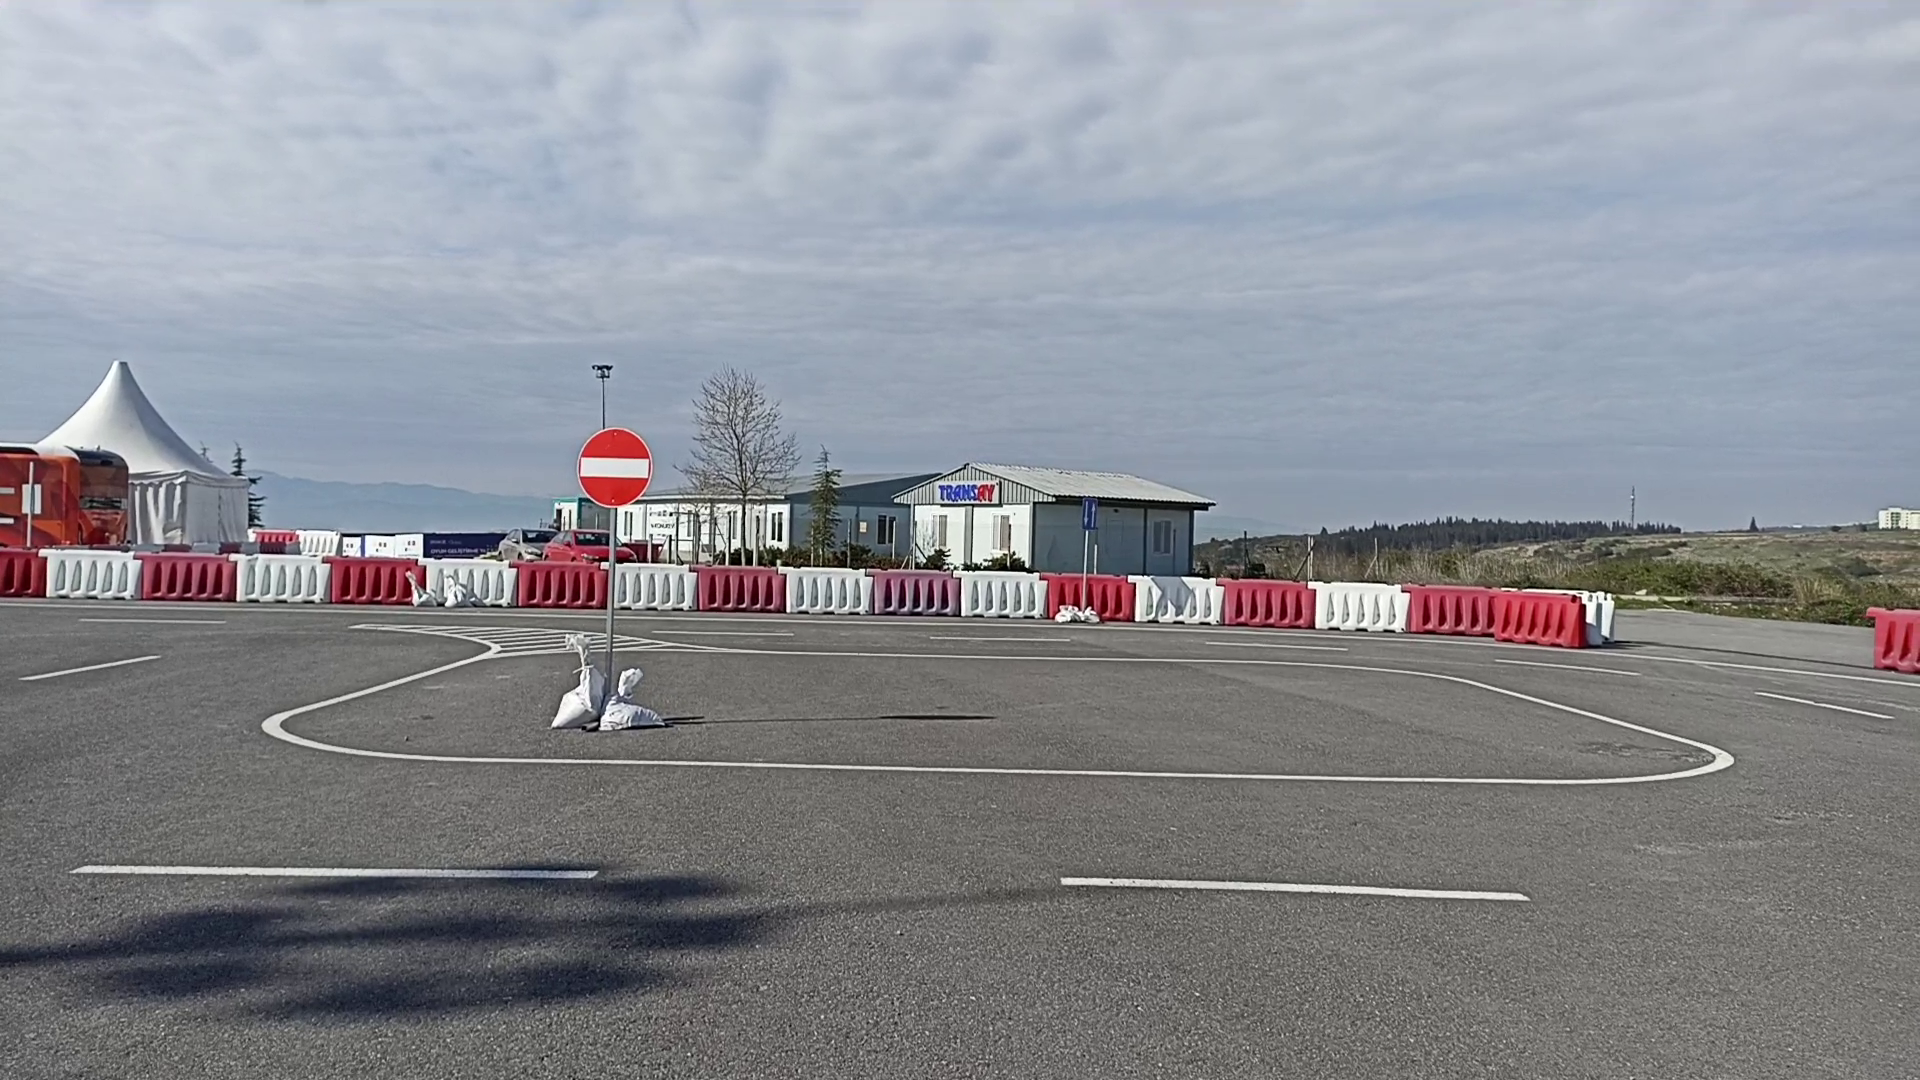noentryway: (575, 425, 655, 512)
